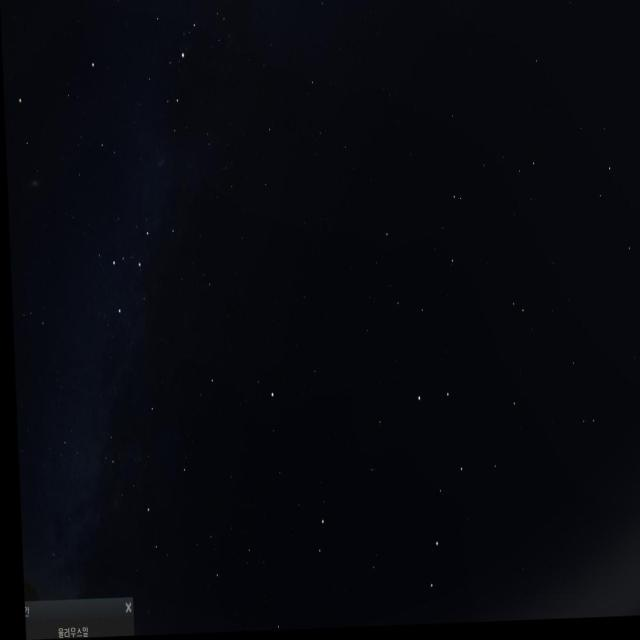ursa_major: (398, 363, 462, 628)
